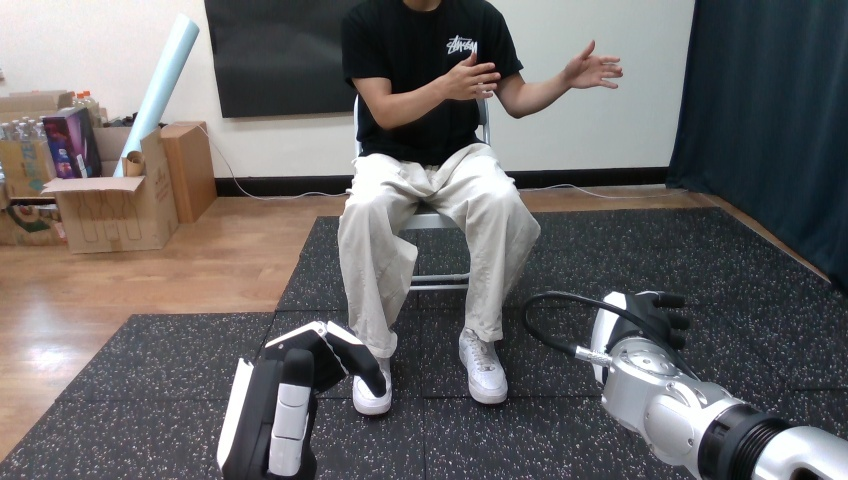left robot hand: (521, 291, 847, 479), (438, 52, 500, 99), (562, 41, 622, 88)
